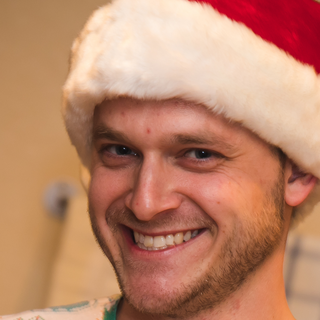eye: (169, 139, 229, 168), (94, 139, 143, 162)
